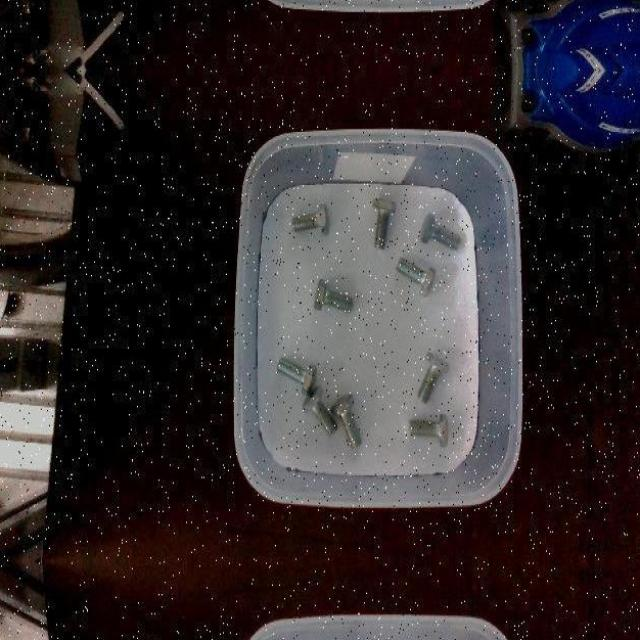screw: (302, 385, 338, 437), (417, 350, 451, 404), (329, 393, 362, 448), (396, 256, 436, 298), (419, 213, 461, 251), (276, 355, 315, 394), (314, 278, 354, 312), (409, 413, 449, 447), (372, 196, 397, 248), (292, 204, 331, 236)
